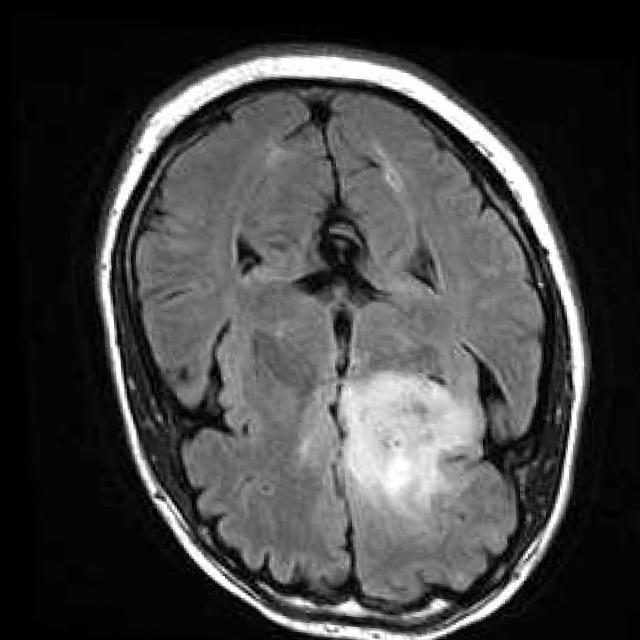Tumor: (340, 365, 480, 501)
